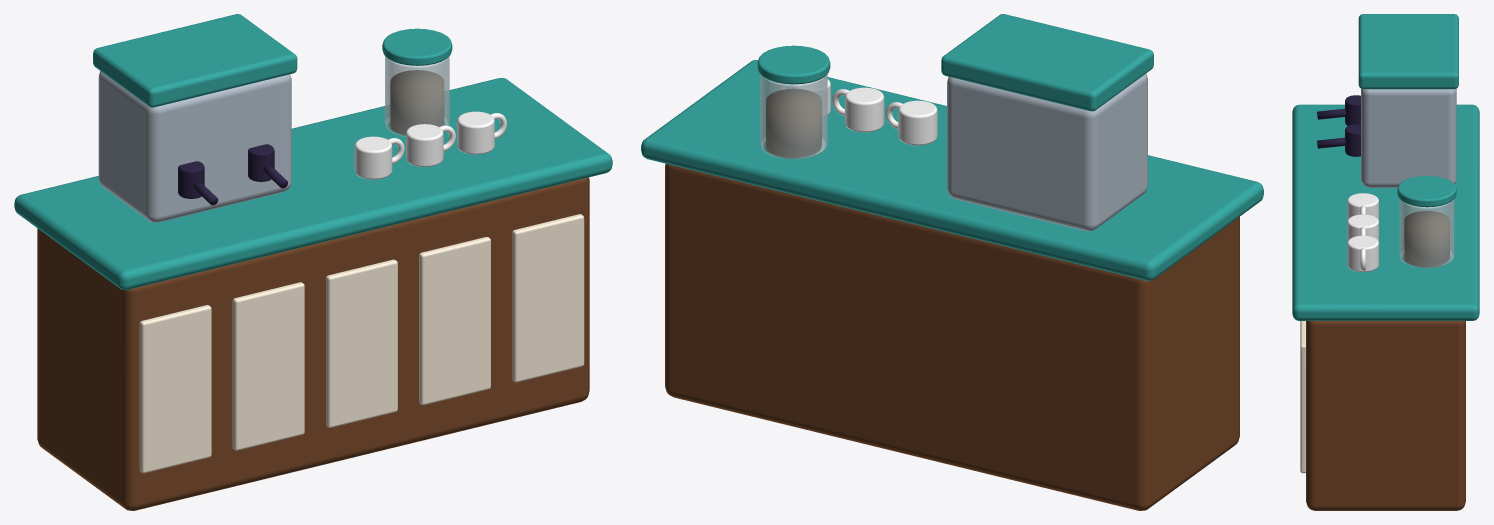
The model's file is coffee_bar.glb.
3 renders of one model, left to right at view 1: azimuth 30°, elevation 25°; view 2: azimuth 150°, elevation 25°; view 3: azimuth 270°, elevation 25°, orthographic. The views are drawn at different scales.
Parts seen in each view (by area): view 1: coffee_bar; view 2: coffee_bar; view 3: coffee_bar.
Boxes of the visible parts, bbox=[...] form: coffee_bar: bbox=[14, 14, 612, 510]; coffee_bar: bbox=[641, 14, 1263, 510]; coffee_bar: bbox=[1292, 14, 1479, 510].
Size of the model in its own units: 2.12 by 1.6 by 0.82.
